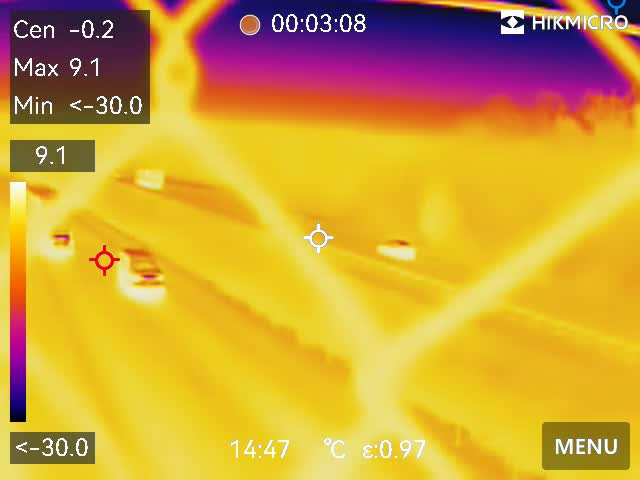heavyTruck: (21, 184, 81, 258), (130, 168, 170, 189)
largeCar: (116, 243, 170, 296)
vehicle: (374, 232, 417, 261)
